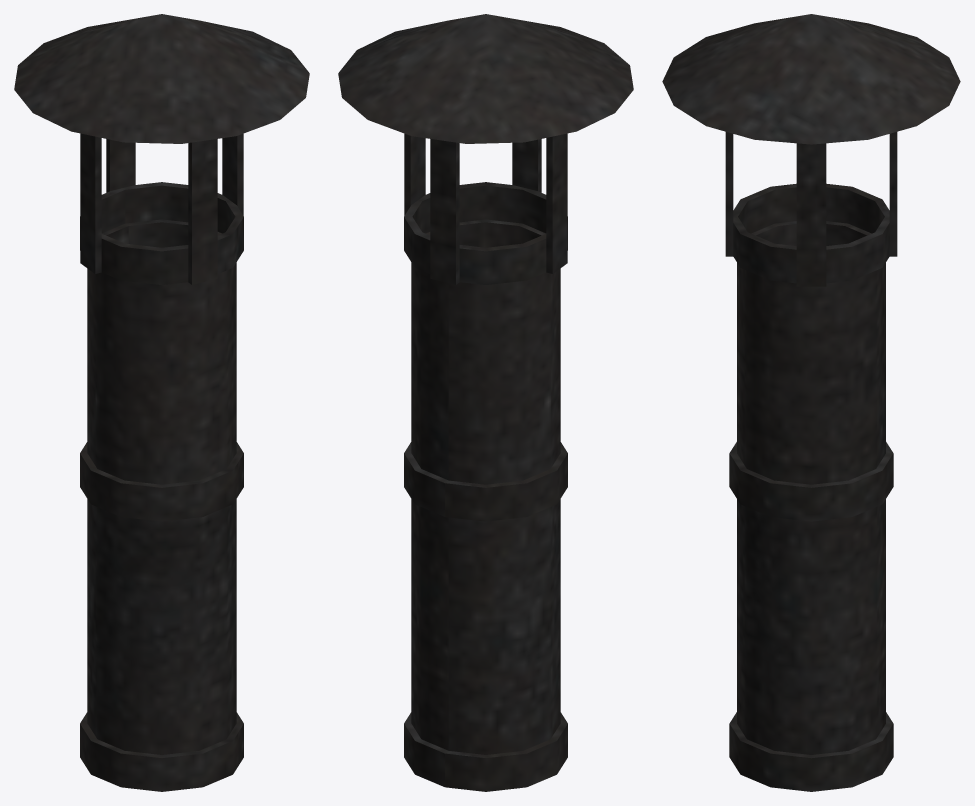
File: chimney_a_1.dae
3 renders of one model, left to right at view 1: azimuth 30°, elevation 25°; view 2: azimuth 150°, elevation 25°; view 3: azimuth 270°, elevation 25°, orthographic.
Parts seen in each view (by area): view 1: chimney_a_1; view 2: chimney_a_1; view 3: chimney_a_1.
Part boxes in pixels (left/top/right/bottom): chimney_a_1: left=14, top=14, right=309, bottom=791; chimney_a_1: left=338, top=14, right=633, bottom=791; chimney_a_1: left=662, top=14, right=960, bottom=791.
Size of the model in its own units: 0.4 by 0.4 by 1.1.
Materials: 1 (1 with a texture image).
